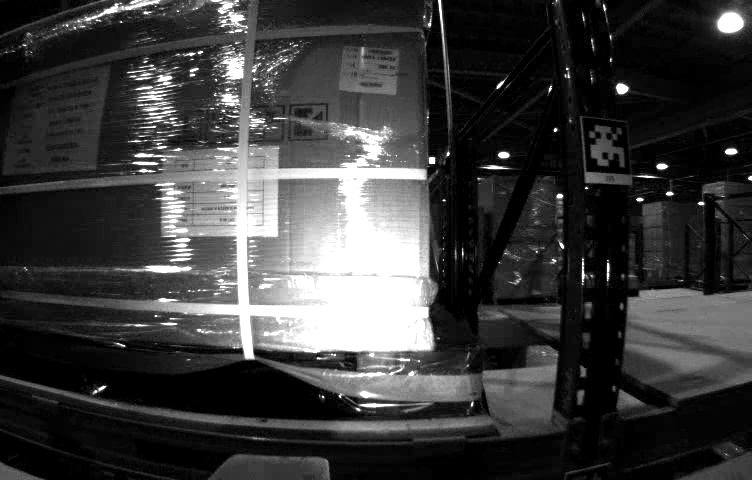True Barcode: (341, 45, 396, 92)
